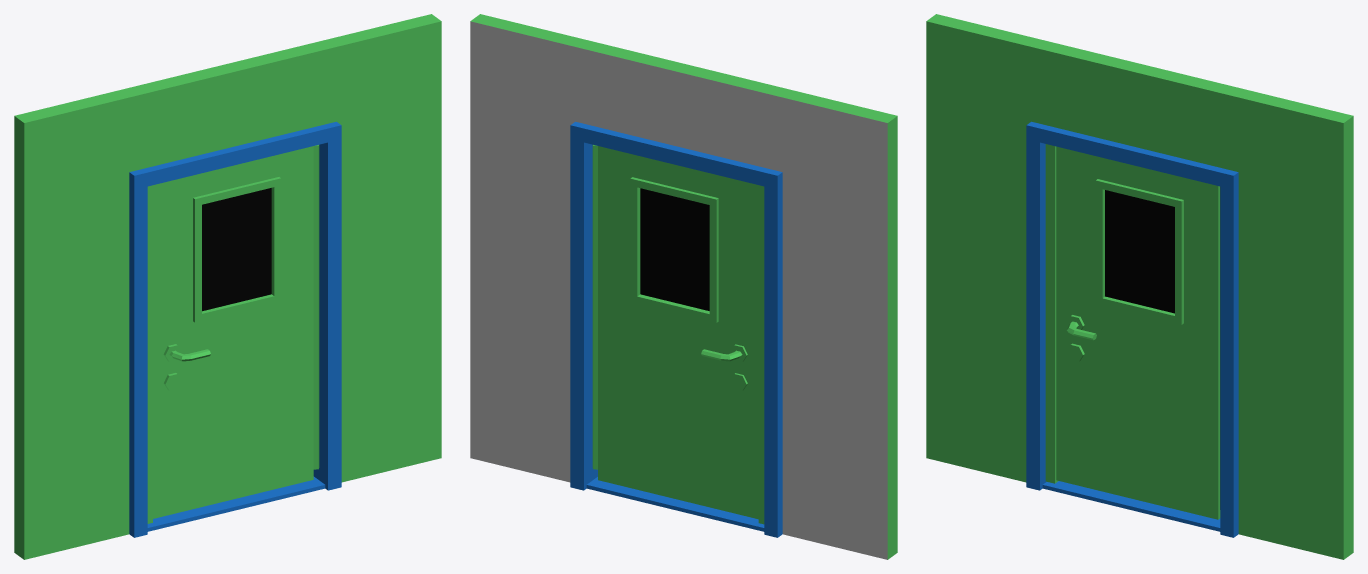
The model's file is Ph_door.fbx.
The picture shows the model from 3 angles, left to right: view 1: azimuth 30°, elevation 25°; view 2: azimuth 150°, elevation 25°; view 3: azimuth 330°, elevation 25°; orthographic projection.
Parts seen in each view (by area): view 1: Boole_1, Cylinder_72; view 2: Boole_1, Cylinder_72; view 3: Boole_1, Cylinder_72.
Boxes of the visible parts, bbox=[...] form: Boole_1: bbox=[14, 14, 441, 559]; Cylinder_72: bbox=[147, 145, 319, 523]; Boole_1: bbox=[470, 14, 897, 559]; Cylinder_72: bbox=[592, 145, 764, 524]; Boole_1: bbox=[926, 14, 1353, 559]; Cylinder_72: bbox=[1045, 144, 1220, 519].
Bounding box in the file's own units: 250 × 250 × 31.36.
